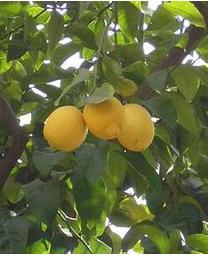lemon: (44, 105, 88, 151), (84, 96, 126, 140), (118, 105, 154, 153)
